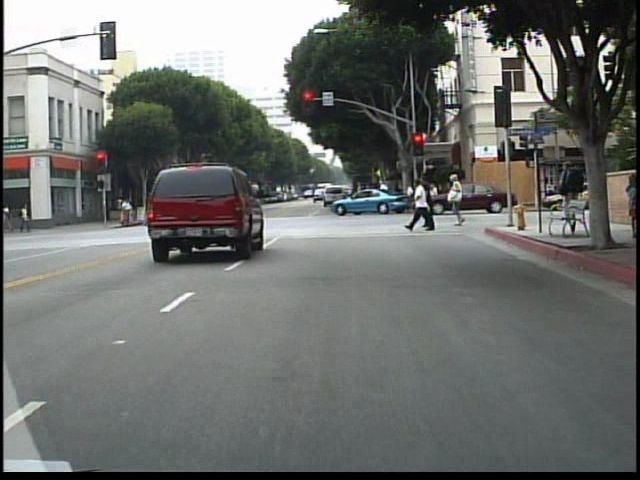person: (556, 158, 584, 229), (445, 173, 473, 229), (409, 178, 434, 232), (257, 180, 275, 232), (419, 178, 436, 229), (376, 177, 397, 215), (142, 192, 158, 232), (357, 180, 374, 215), (20, 202, 36, 237), (403, 180, 418, 215), (119, 194, 133, 230), (2, 200, 15, 235)
